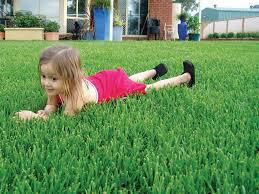child: (10, 41, 202, 123)
